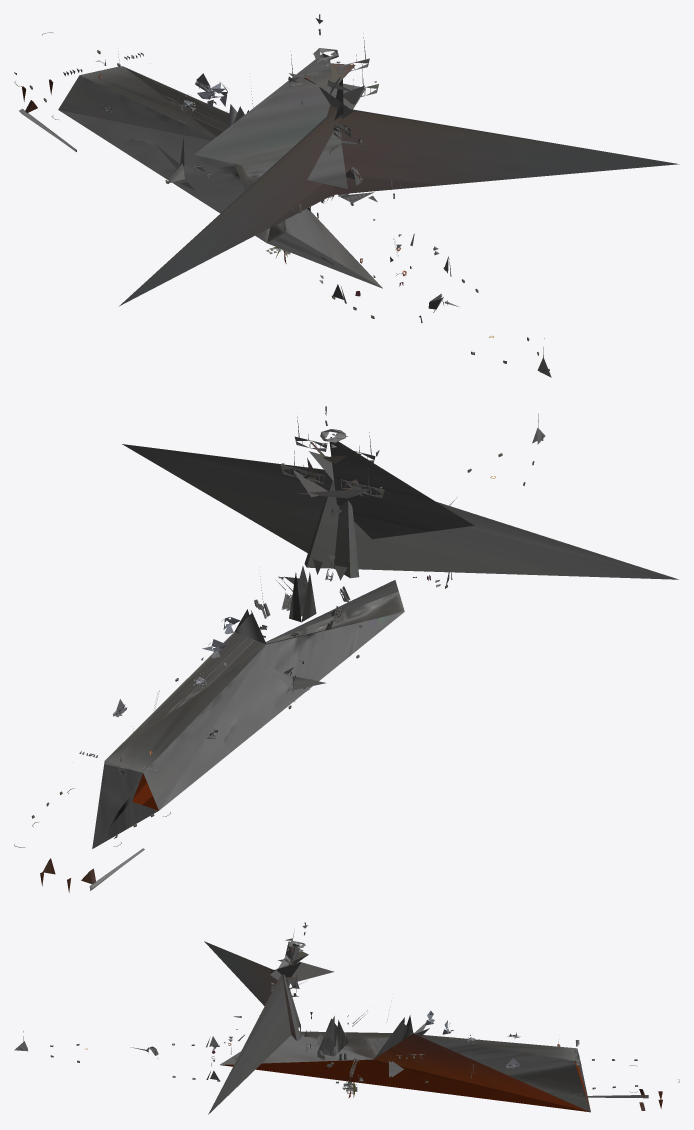
Rendered from navy_destroyer_lod1.glb.
3 renders of one model, top to bottom at view 1: azimuth 30°, elevation 25°; view 2: azimuth 150°, elevation 25°; view 3: azimuth 270°, elevation 25°, orthographic. The views are drawn at different scales.
Visible parts, largest first — view 1: navy_destroyer; view 2: navy_destroyer; view 3: navy_destroyer.
Boxes of the visible parts, x1=… form: navy_destroyer: x1=14, y1=14, x2=679, y2=377; navy_destroyer: x1=14, y1=406, x2=678, y2=892; navy_destroyer: x1=14, y1=922, x2=679, y2=1114.
Bounding box in the file's own units: 97.11 × 47.65 × 155.
Materials: 6 (6 with a texture image).
